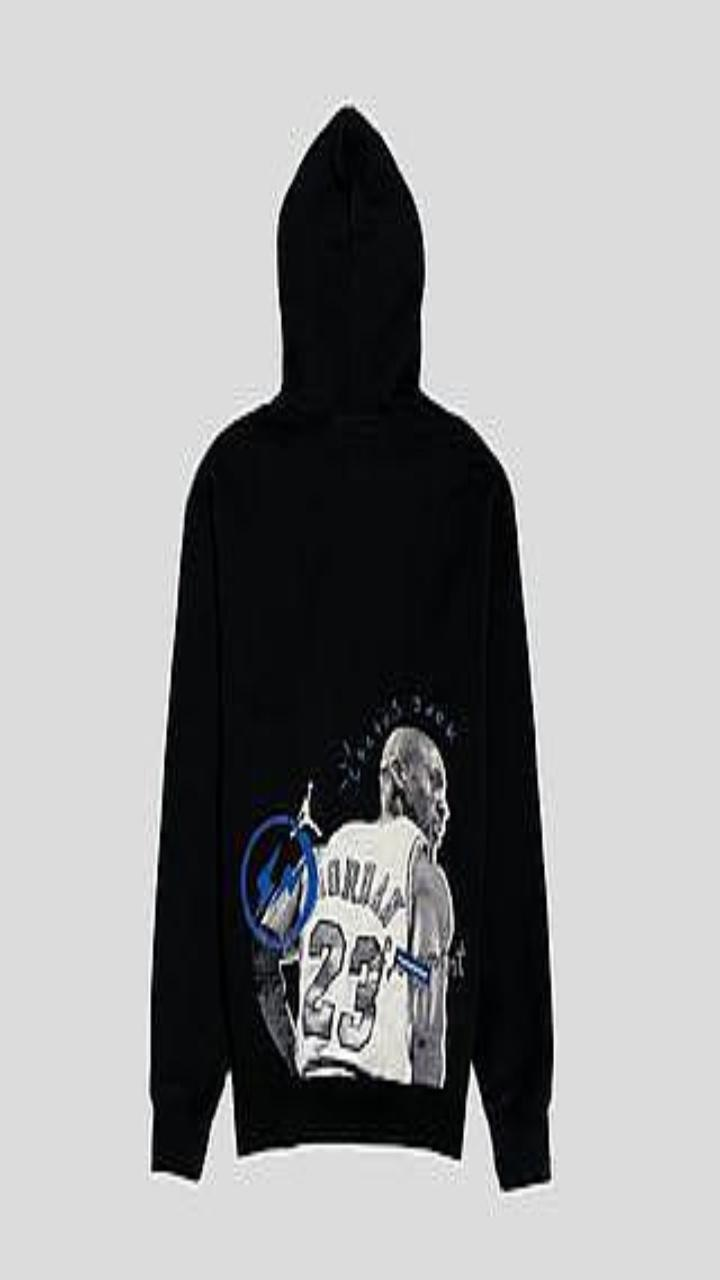Hoodie: (150, 107, 552, 1187)
